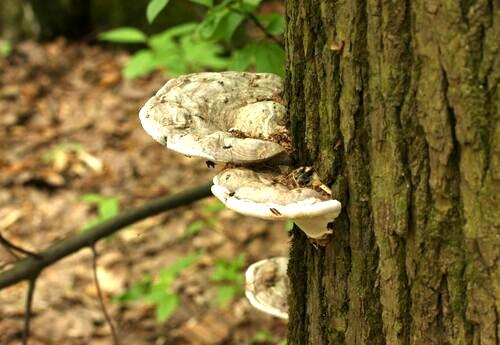Ganoderma - Fruit Body: (134, 68, 295, 158), (209, 168, 337, 236), (241, 256, 297, 318)
